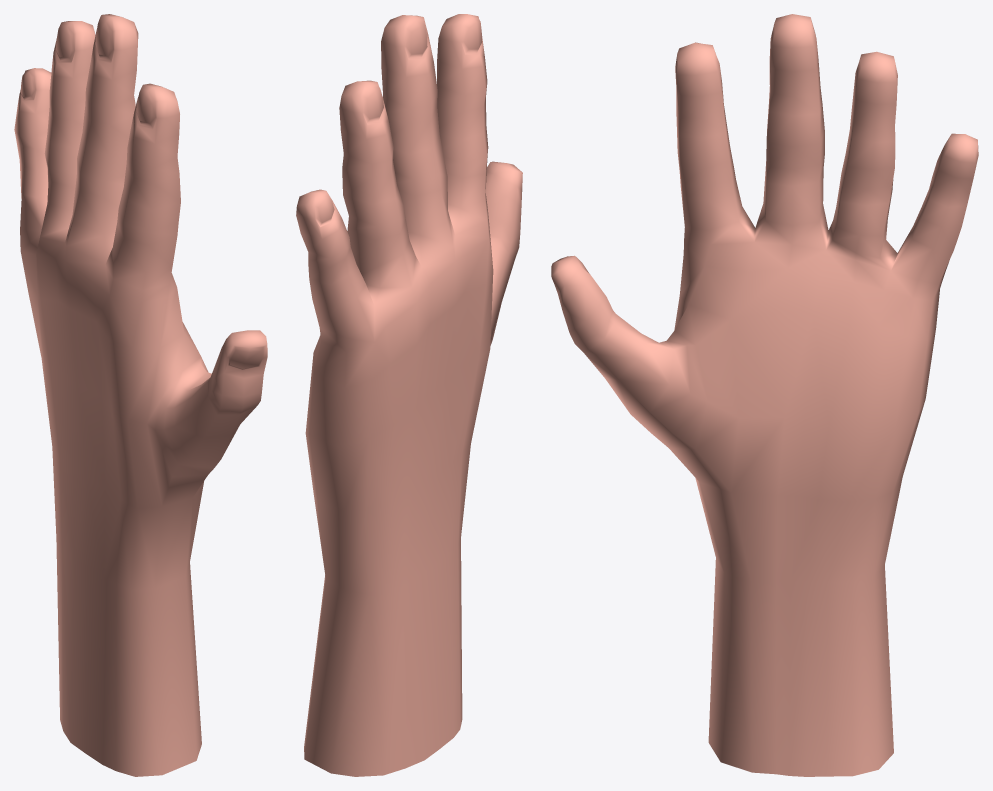
File: Left Hand.gltf
The picture shows the model from 3 angles, left to right: view 1: azimuth 30°, elevation 25°; view 2: azimuth 150°, elevation 25°; view 3: azimuth 270°, elevation 25°; orthographic projection.
Parts seen in each view (by area): view 1: Cube.005; view 2: Cube.005; view 3: Cube.005.
Part boxes in pixels (bbox=[...]): Cube.005: bbox=[14, 14, 267, 776]; Cube.005: bbox=[296, 14, 522, 776]; Cube.005: bbox=[551, 14, 978, 776].
Bounding box in the file's own units: 0.3315 × 1.86 × 0.993.
